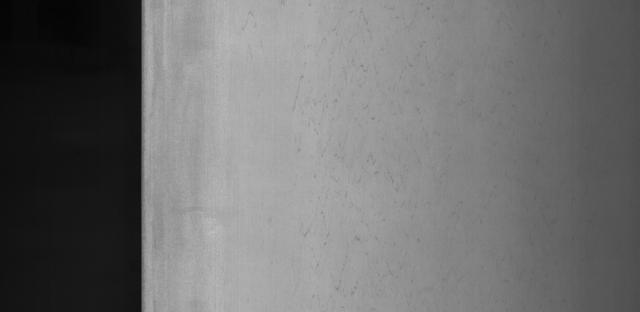silk_spot: (270, 20, 422, 221)
